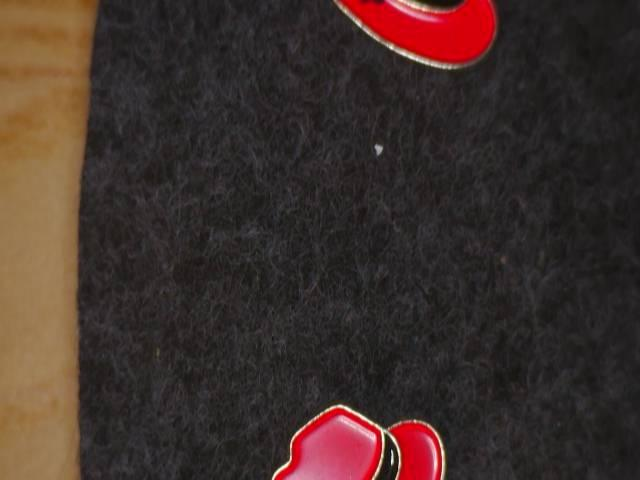Red-Hat: (254, 389, 455, 480), (322, 0, 496, 88)
